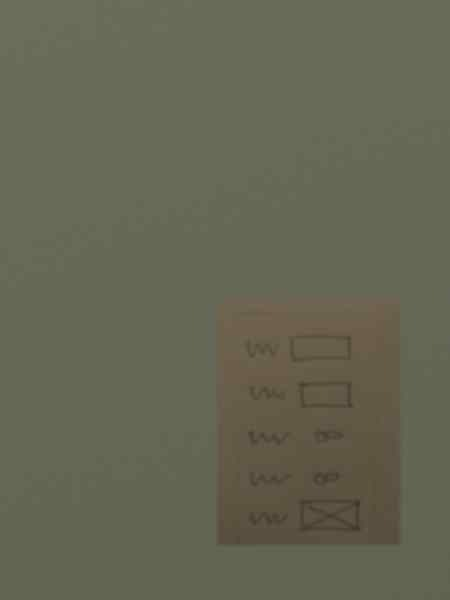image: (296, 497, 365, 536)
switch: (309, 468, 345, 488), (312, 426, 347, 446)
text: (247, 381, 289, 407), (246, 426, 295, 448), (248, 468, 295, 490), (243, 336, 282, 360), (246, 507, 290, 528)
text_input: (285, 330, 358, 364), (295, 378, 360, 412)
